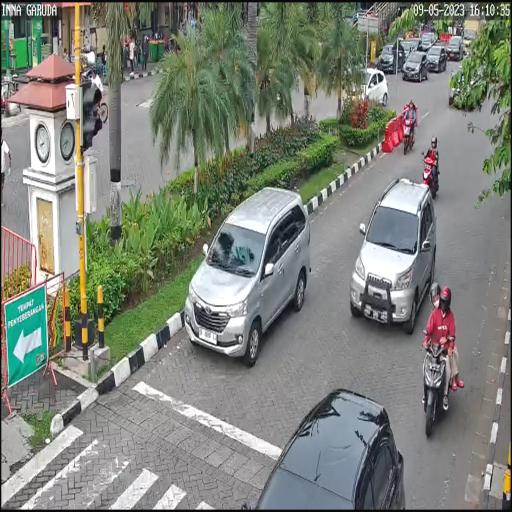mobil: (185, 181, 312, 370), (349, 171, 440, 339)
motor: (419, 320, 463, 442), (422, 152, 440, 194), (401, 113, 417, 154)
